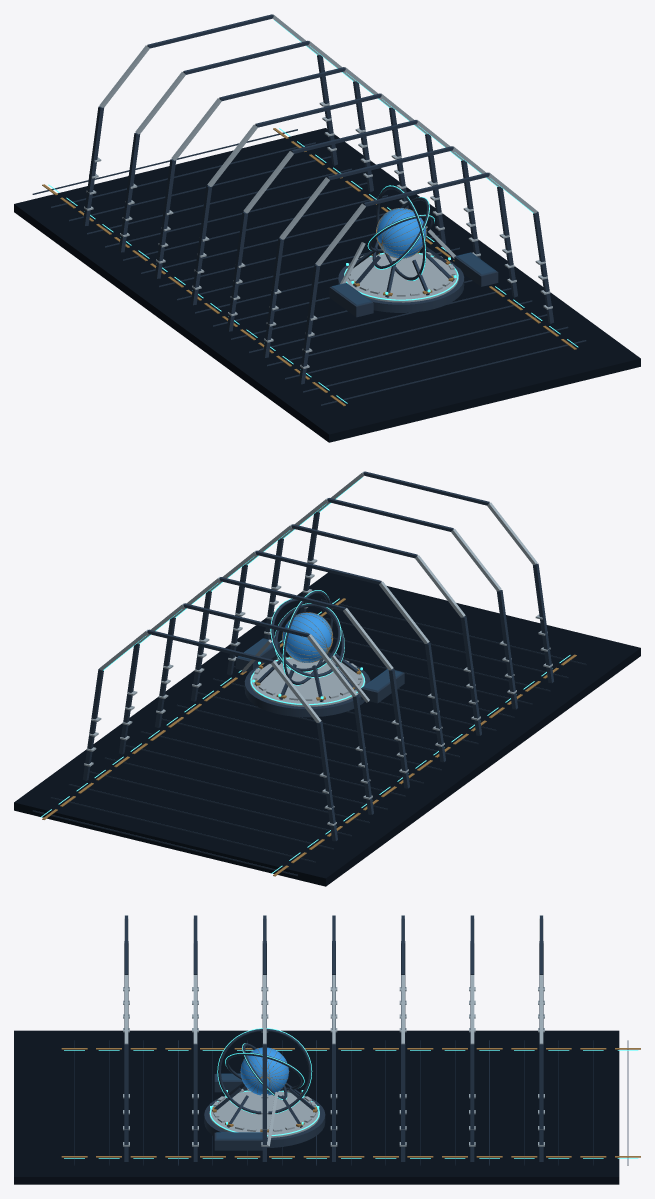
The model's file is atrium-mobile.glb.
The picture shows the model from 3 angles, top to bottom: view 1: azimuth 30°, elevation 25°; view 2: azimuth 150°, elevation 25°; view 3: azimuth 270°, elevation 25°; orthographic projection. The views are drawn at different scales.
Parts seen in each view (by area): view 1: object 1, architectural-heart, celestial-heart, object 87, object 177, object 132, object 117, object 147, object 162, object 102, object 94, object 109 (+8 smaller); view 2: object 1, architectural-heart, celestial-heart, object 177, object 132, object 87, object 162, object 102, object 117, object 147, object 184, object 169 (+10 smaller); view 3: object 1, architectural-heart, celestial-heart, object 94, object 184, object 109, object 124, object 154, object 169, object 139.
Part boxes in pixels (<box>): object 1: <box>14,128,640,442</box>; architectural-heart: <box>329,185,498,317</box>; celestial-heart: <box>376,208,426,258</box>; object 87: <box>299,264,320,384</box>; object 177: <box>82,106,103,225</box>; object 132: <box>191,185,212,305</box>; object 117: <box>227,212,248,331</box>; object 147: <box>155,159,176,278</box>; object 162: <box>119,132,140,252</box>; object 102: <box>263,238,284,357</box>; object 94: <box>533,211,553,323</box>; object 109: <box>497,186,517,297</box>; object 1: <box>14,572,640,886</box>; architectural-heart: <box>236,590,404,717</box>; celestial-heart: <box>282,612,332,662</box>; object 177: <box>316,721,337,841</box>; object 132: <box>424,642,445,762</box>; object 87: <box>533,563,553,683</box>; object 162: <box>352,695,373,814</box>; object 102: <box>496,590,517,709</box>; object 117: <box>461,616,481,735</box>; object 147: <box>388,669,409,788</box>; object 184: <box>83,668,103,780</box>; object 169: <box>119,644,139,754</box>; object 1: <box>14,1030,619,1184</box>; architectural-heart: <box>204,1028,325,1150</box>; celestial-heart: <box>240,1047,288,1095</box>; object 94: <box>124,1044,128,1161</box>; object 184: <box>539,1044,543,1161</box>; object 109: <box>193,1044,197,1161</box>; object 124: <box>262,1044,266,1161</box>; object 154: <box>401,1044,405,1161</box>; object 169: <box>470,1044,474,1161</box>; object 139: <box>332,1044,335,1161</box>.
Size of the model in its own units: 20 by 10.64 by 36.25.
